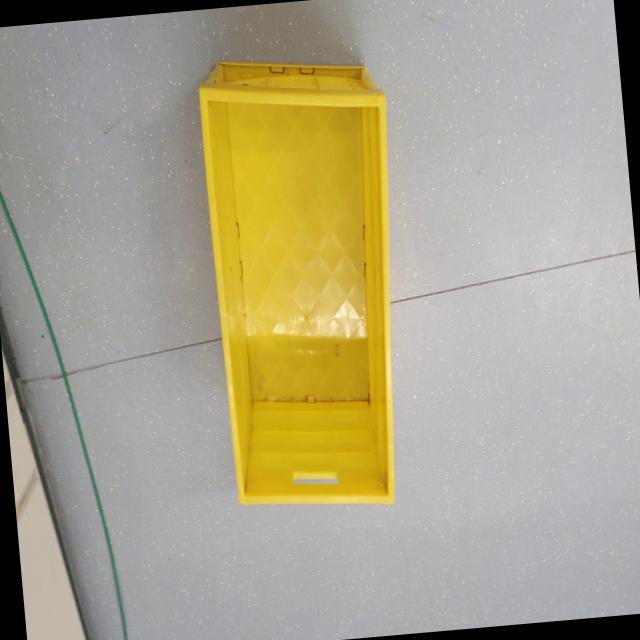box: (182, 46, 424, 525)
